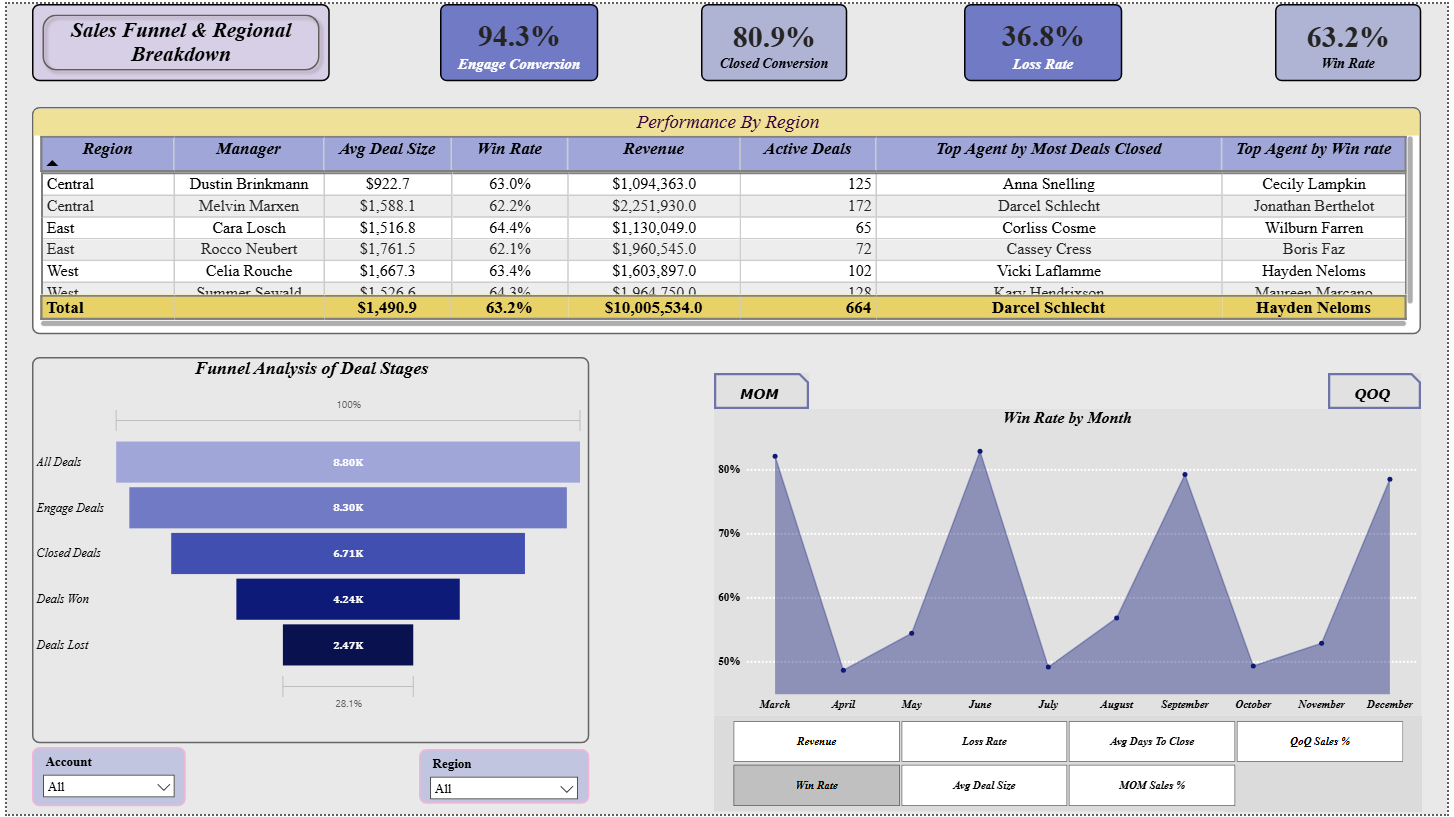

What the dashboard file says about the page in this screenshot:
{"tool":"powerbi","page":{"name":"Regional Breakdown","canvas":[1920,1080],"ordinal":2},"visuals":[{"type":"card","fields":{"Values":["#measures.Engage Conversion"]},"box":[577.3,0,210.7,102.7],"z":0},{"type":"card","fields":{"Values":["#measures.Closed Conversion"]},"box":[925.3,0,194.7,102.7],"z":1000},{"type":"funnel","title":"Funnel Analysis of Deal Stages","fields":{"Y":["#measures.All Deals","#measures.Engage Deals","#measures.Closed Deals","#measures.Deals Won","#measures.Deals Lost"]},"box":[33.3,470.7,742.7,514.7],"z":2000},{"type":"card","fields":{"Values":["#measures.Loss Rate"]},"box":[1276,0,210.7,102.7],"z":4000},{"type":"card","fields":{"Values":["#measures.Win Rate"]},"box":[1690.7,0,194.7,102.7],"z":5000},{"type":"stackedAreaChart","fields":{"Y":["#measures.Win Rate"],"Category":["sales_pipeline.close_date.Variation.Date Hierarchy.Month"]},"box":[942.7,540,942.7,409.3],"z":6000},{"type":"slicer","fields":{"Values":["Time Parameters.Time Parameters"]},"box":[942.7,949.3,942.7,126.7],"z":8000},{"type":"actionButton","box":[942.7,492,126.7,48],"z":9000},{"type":"actionButton","box":[1761.3,492,124,48],"z":10000},{"type":"tableEx","title":"Performance By Region","fields":{"Values":["sales_teams.regional_office","sales_teams.manager","#measures.Avg Deal Size","#measures.Win Rate","#measures.Revenue","#measures.Active Deals","#measures.Top Agent by Most Deals Closed","#measures.Top Agent by Win rate"]},"box":[33.3,137.3,1852,302.7],"z":11000},{"type":"actionButton","title":"Product Analysis","box":[33.3,0,397.3,102.7],"z":12000},{"type":"slicer","fields":{"Values":["accounts.account"]},"box":[33.3,990.7,205.3,78.7],"z":13000},{"type":"slicer","fields":{"Values":["accounts.sector"]},"box":[549.3,993.3,226.7,73.3],"z":14000}]}

Visuals, with their boxes in screenshot pixels (x1, y1, x2, y2), scaled from the page's 1920x1080 canvas onto the 1454x817 screenshot:
card - #measures.Engage Conversion: detection(437, 0, 597, 78)
card - #measures.Closed Conversion: detection(701, 0, 848, 78)
"Funnel Analysis of Deal Stages" funnel: detection(25, 356, 588, 745)
card - #measures.Loss Rate: detection(966, 0, 1126, 78)
card - #measures.Win Rate: detection(1280, 0, 1428, 78)
stackedAreaChart - #measures.Win Rate x sales_pipeline.close_date.Variation.Date Hierarchy.Month: detection(714, 408, 1428, 718)
slicer - Time Parameters.Time Parameters: detection(714, 718, 1428, 814)
actionButton: detection(714, 372, 810, 408)
actionButton: detection(1334, 372, 1428, 408)
"Performance By Region" tableEx: detection(25, 104, 1428, 333)
"Product Analysis" actionButton: detection(25, 0, 326, 78)
slicer - accounts.account: detection(25, 749, 181, 809)
slicer - accounts.sector: detection(416, 751, 588, 807)
